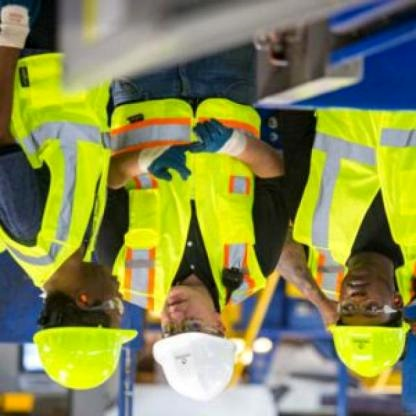vest: (107, 94, 274, 320), (3, 50, 126, 291), (279, 101, 415, 269)
white: (152, 326, 250, 408)
yellow: (29, 321, 142, 396), (318, 312, 413, 384)
